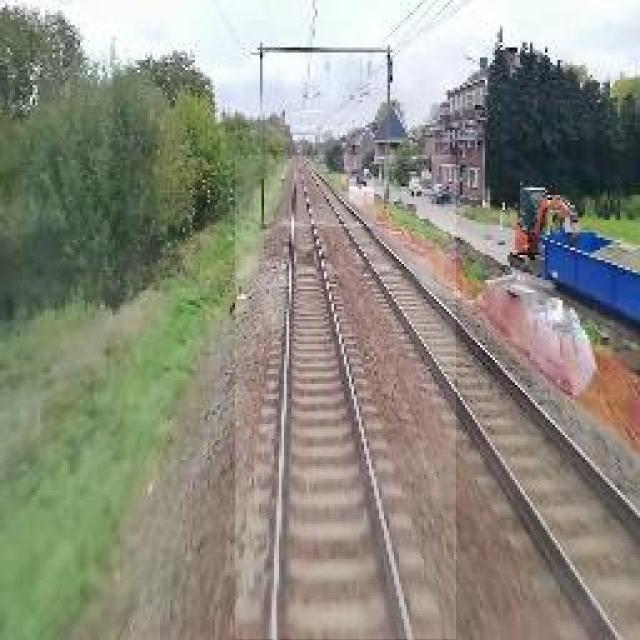rail: (236, 157, 457, 640)
